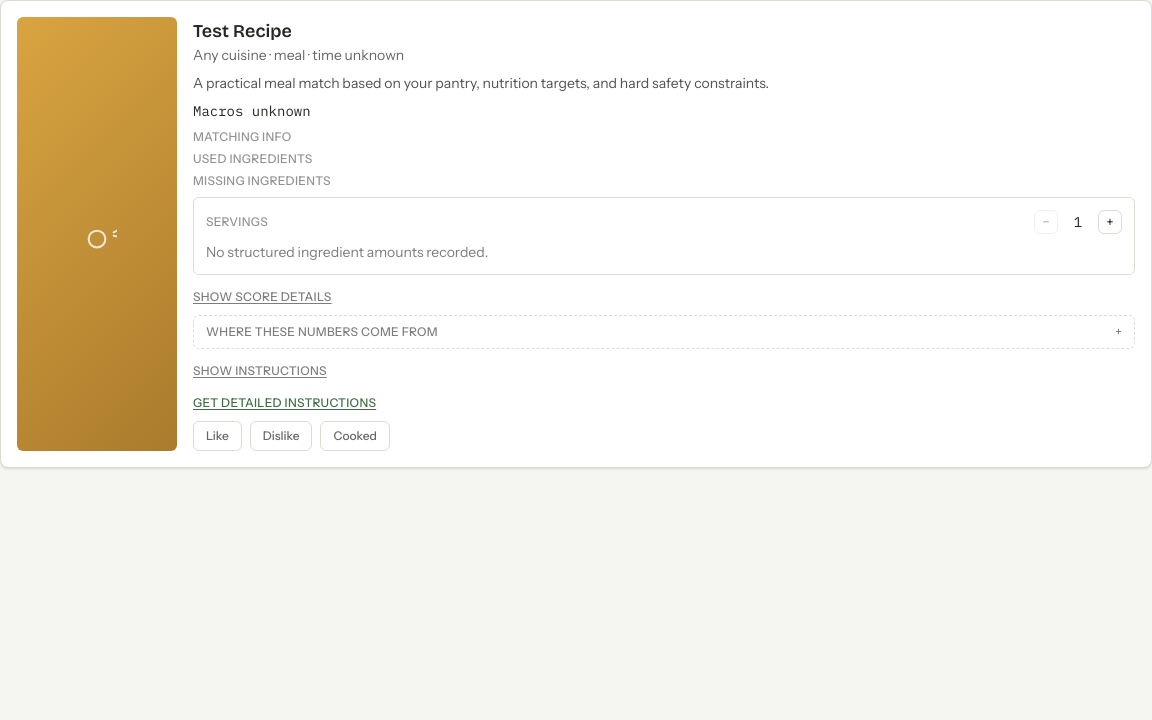
Test case: RecipeCard: score-details toggle › hides the 5 remaining score tiles until 'Show score details' is clicked
Expected: the text "Final" is not shown
Expected: the text "Preference" is not shown
Click the button "Show score details": (262, 297) [193,289,332,305]
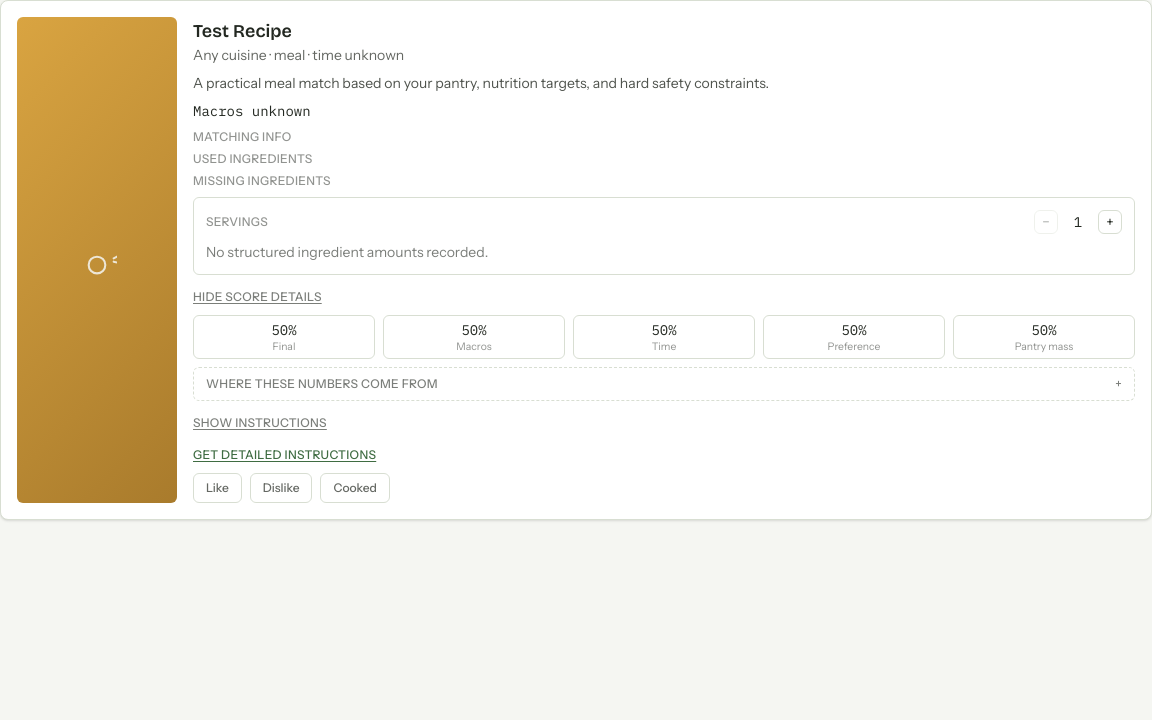
Result: the text "Final" is shown at [273,340,295,354]
Result: the text "Macros" is shown at [456,340,492,354]
Result: the text "Time" is shown at [652,340,676,354]
Click the button "Hide score details": (257, 297) [193,289,322,305]
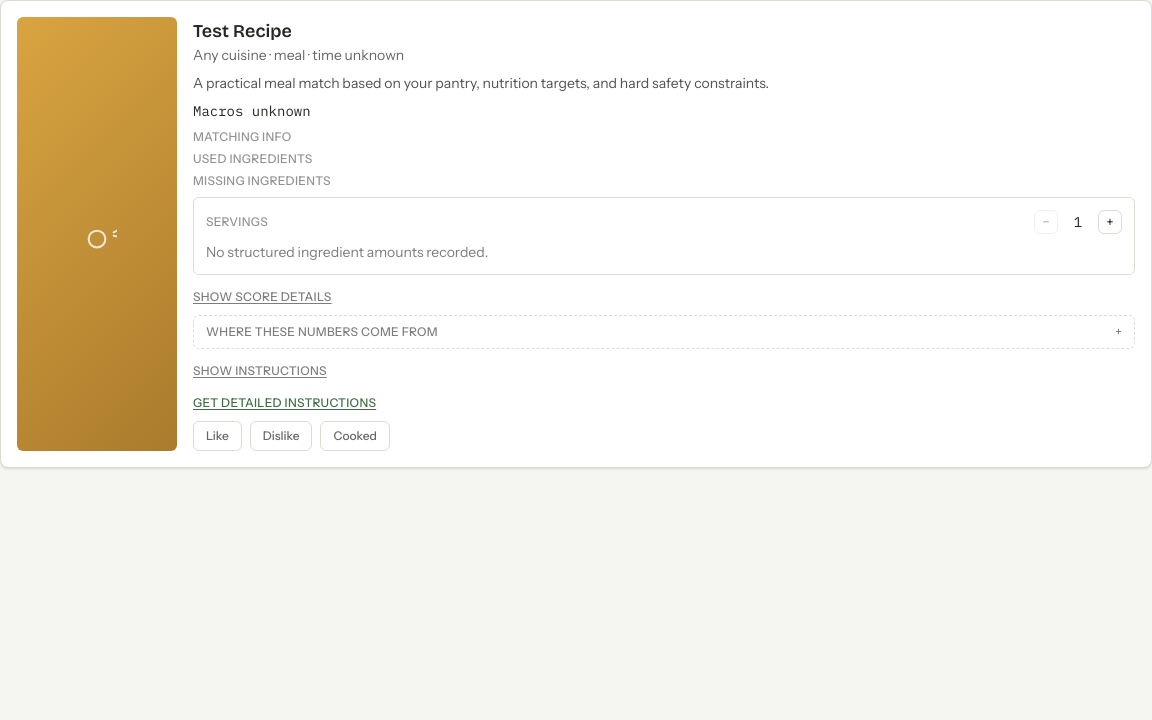
Result: the text "Final" is gone
